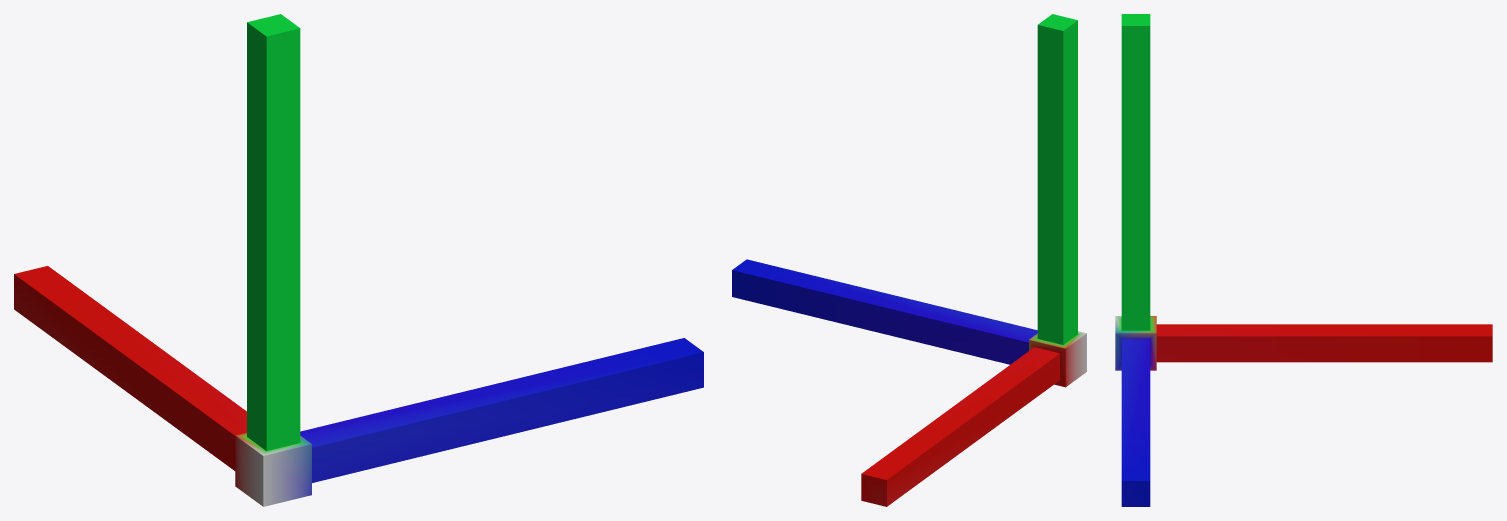
The model's file is origin.glb.
3 views of the same model, side by side, from view 1: azimuth 30°, elevation 25°; view 2: azimuth 150°, elevation 25°; view 3: azimuth 270°, elevation 25° (orthographic). The views are drawn at different scales.
Parts seen in each view (by area): view 1: Cube; view 2: Cube; view 3: Cube.
Boxes of the visible parts, x1=… form: Cube: x1=14, y1=14, x2=703, y2=506; Cube: x1=732, y1=14, x2=1086, y2=506; Cube: x1=1115, y1=14, x2=1492, y2=506.
Bounding box in the file's own units: 0.4801 × 0.4801 × 0.4801.
